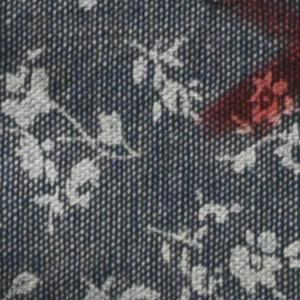Stain: (192, 1, 300, 143)
